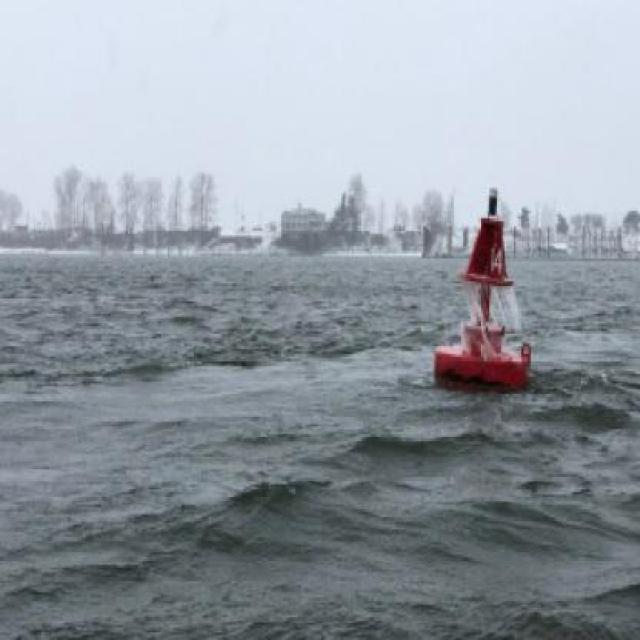buoy: (433, 172, 538, 398)
